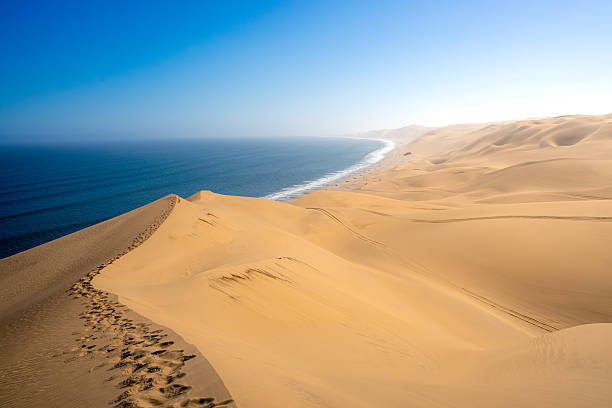human_foot_print: (69, 203, 234, 407)
